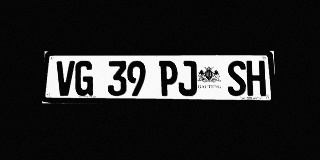3: (108, 61, 127, 96)
9: (127, 61, 146, 96)
G: (74, 61, 94, 96)
H: (246, 61, 266, 96)
J: (178, 61, 197, 96)
P: (159, 61, 178, 96)
S: (227, 61, 247, 96)
V: (55, 61, 75, 96)
